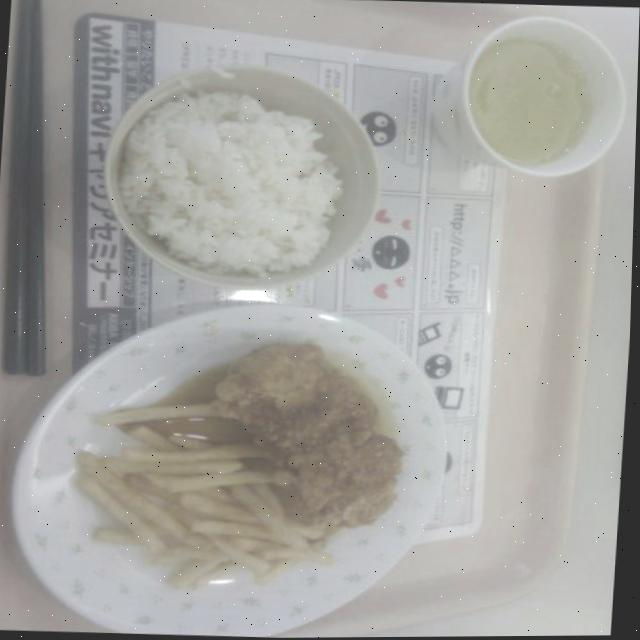炸货点心: (23, 408, 340, 595)
米饭主食: (71, 67, 380, 299)
